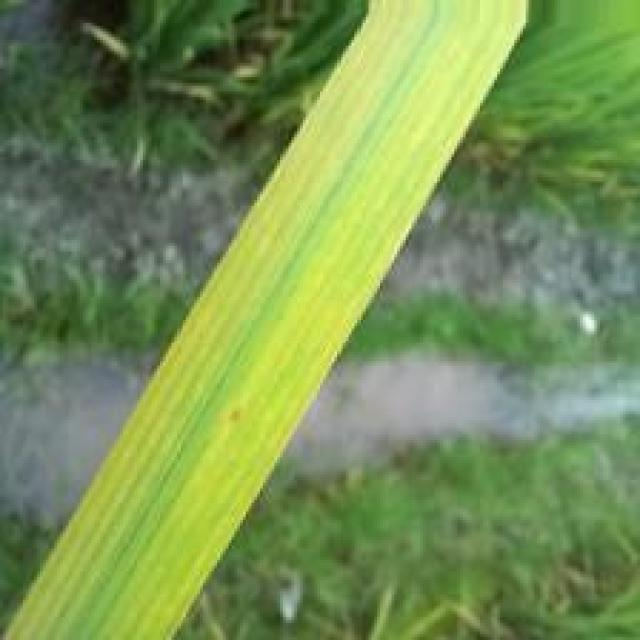Brown_Spot: (226, 402, 248, 423)
